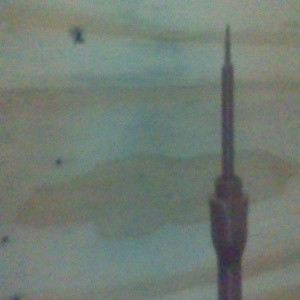solder: (206, 22, 249, 300)
